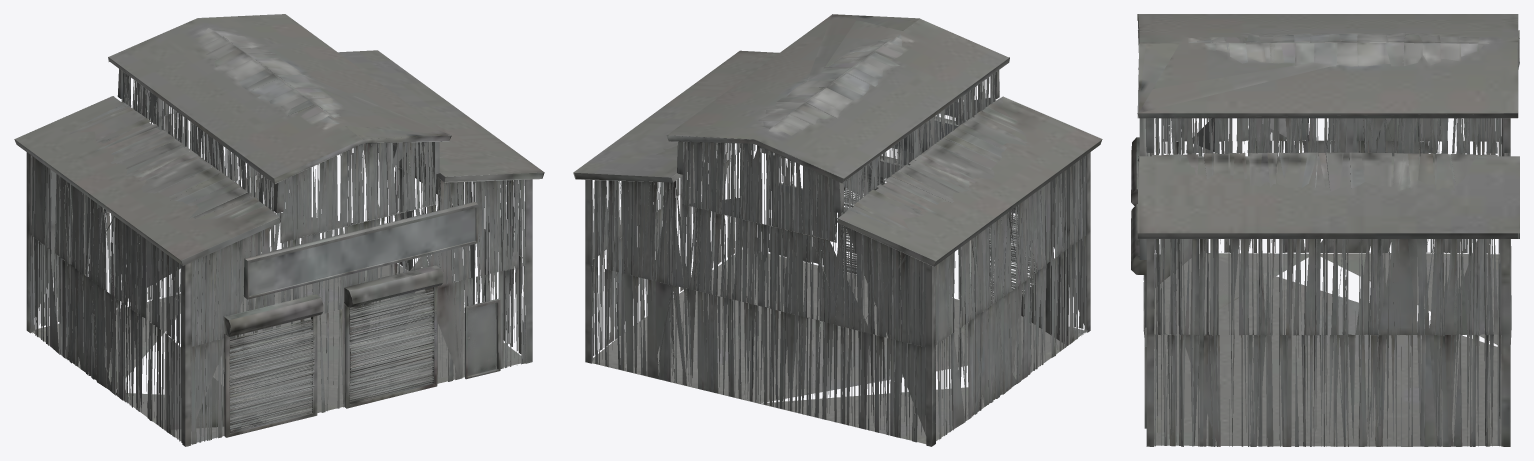
Rendered from shed-01-corrugated.far.glb.
The picture shows the model from 3 angles, left to right: view 1: azimuth 30°, elevation 25°; view 2: azimuth 150°, elevation 25°; view 3: azimuth 270°, elevation 25°; orthographic projection. The views are drawn at different scales.
Size of the model in its own units: 0.9482 by 0.6704 by 0.7671.
1 material, 1 textured.
